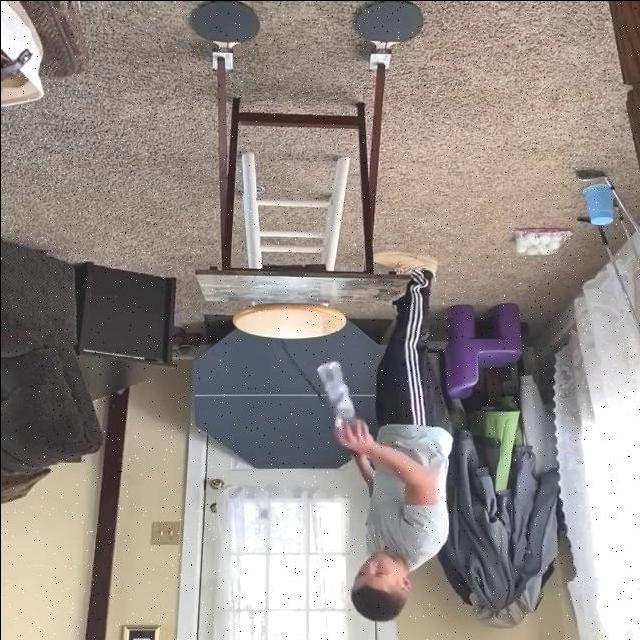ClubHandle: (278, 340, 334, 411)
